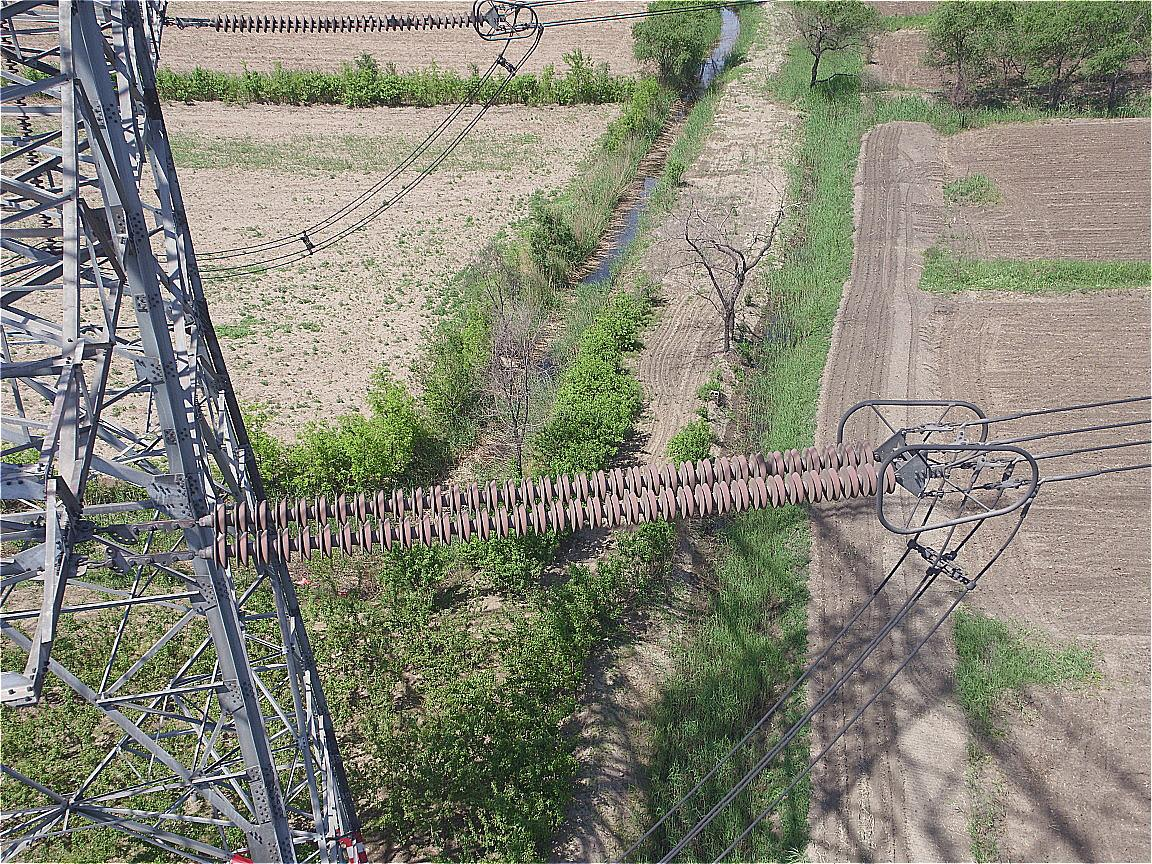insultor1: (213, 10, 487, 35)
insultor2: (213, 440, 898, 571)
